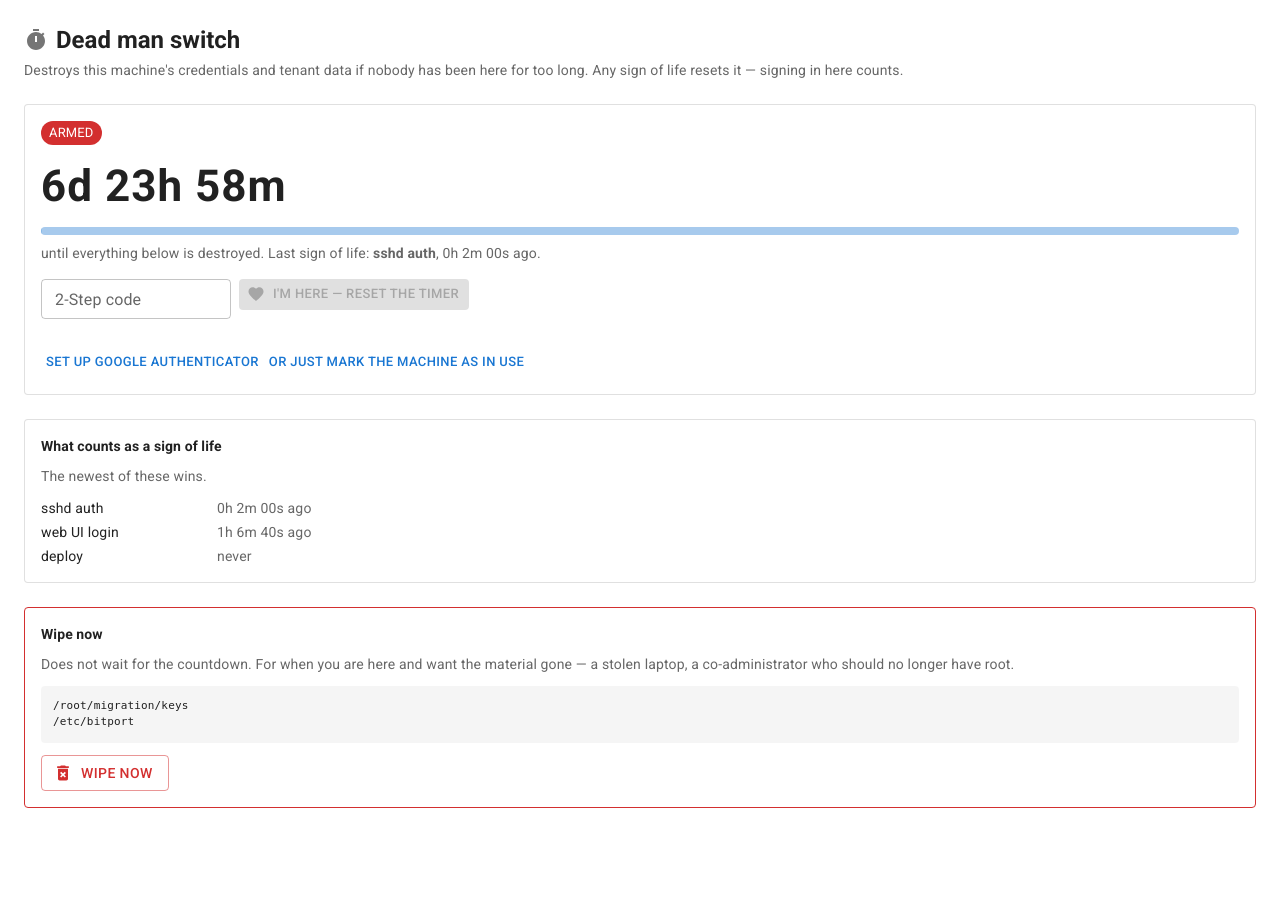
Test case: wipe now › reports a refusal rather than looking like it worked
Click the button with test id "wipe-now" at (105, 773), box [41,755,169,791]
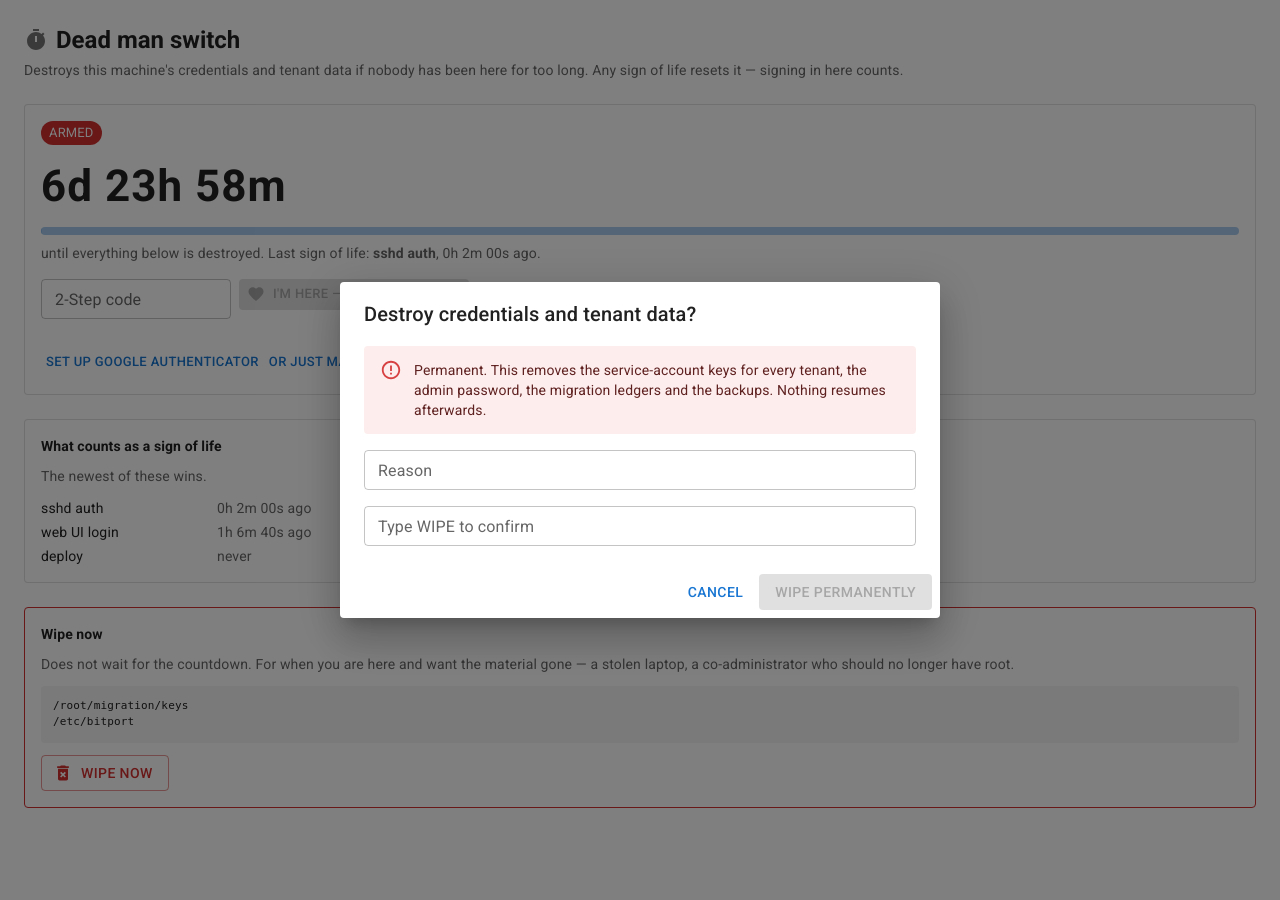
Type "WIPE" into the field with test id "wipe-confirm" at (640, 526), box [364,506,916,546]
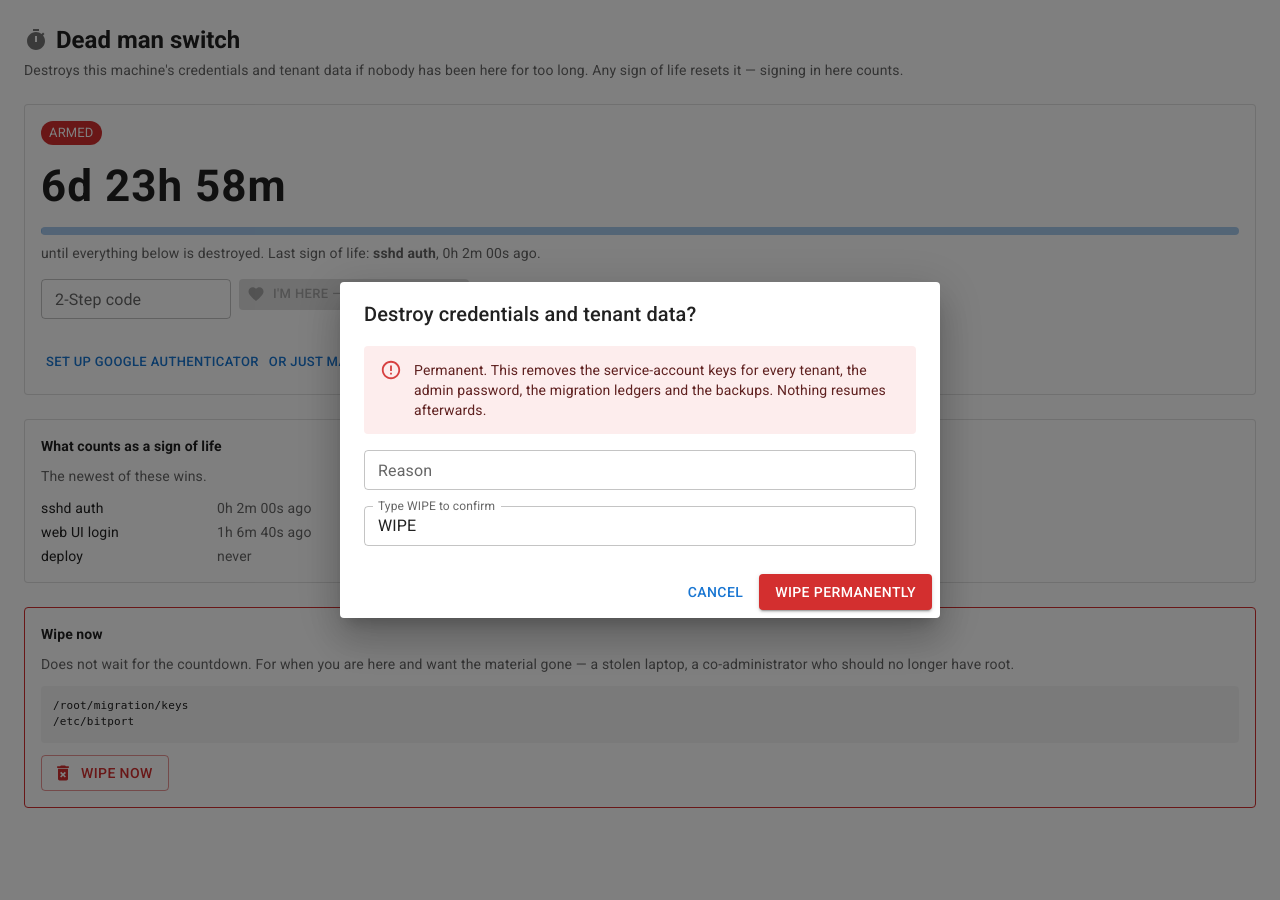
Click the button with test id "wipe-go" at (846, 592), box [759,574,932,610]
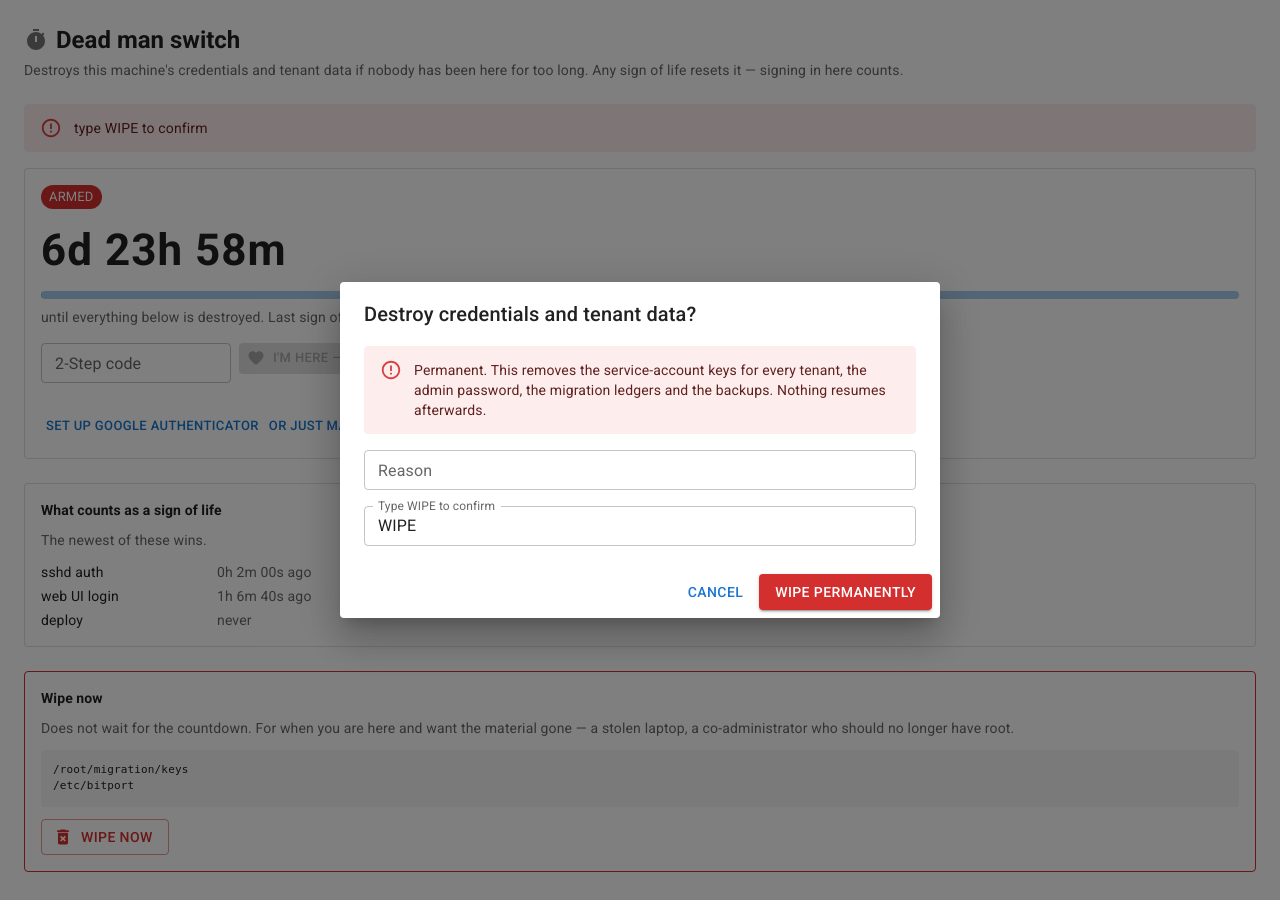
Expected: the message with test id "deadman-error" shows "type WIPE", [74,120,208,136]
